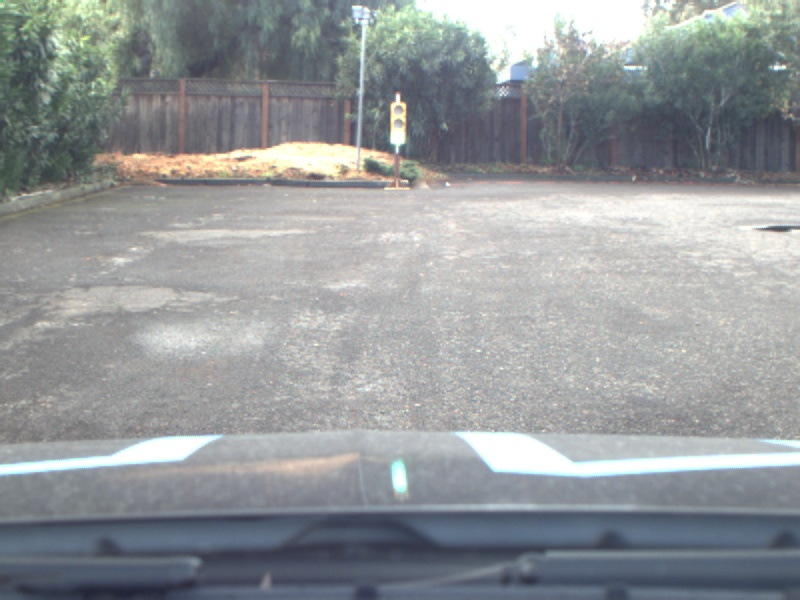Green: (389, 103, 406, 145)
